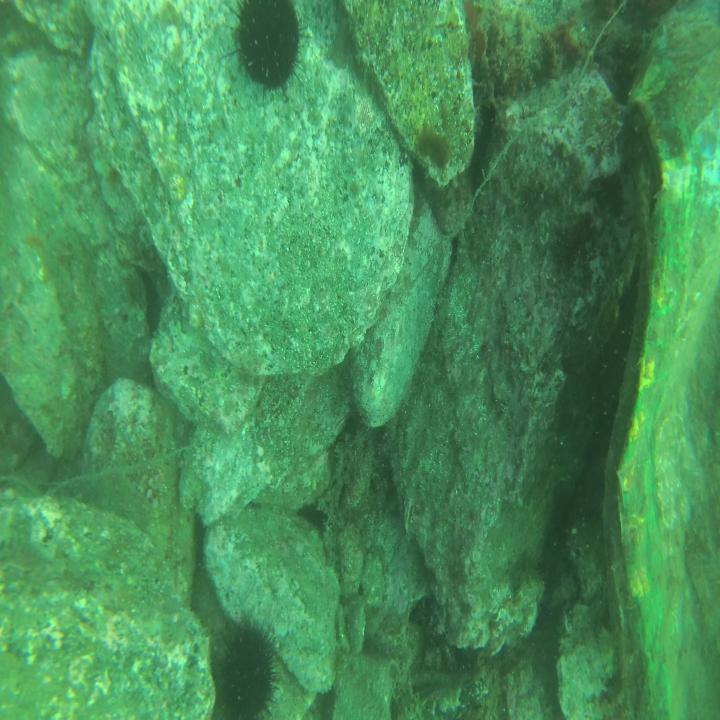echinus: (224, 2, 313, 112), (212, 618, 282, 719)
